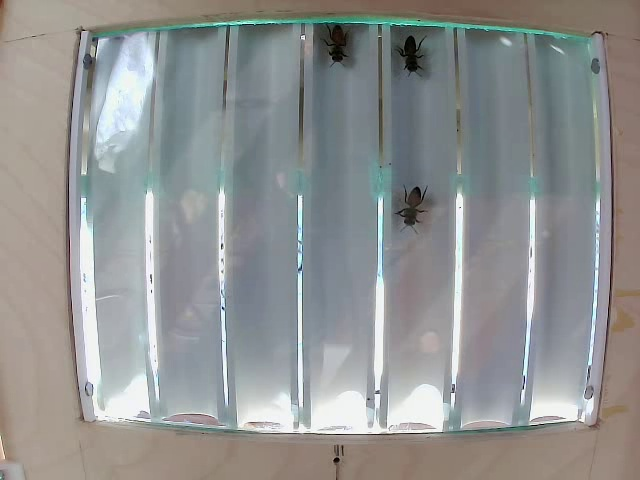bee: (318, 19, 368, 70), (396, 25, 438, 74), (393, 177, 431, 229)
